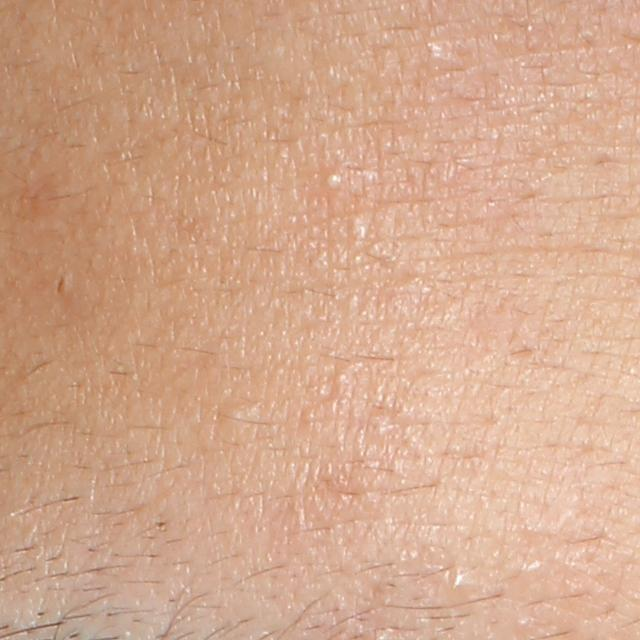comedo: (348, 212, 369, 243), (325, 169, 348, 194), (448, 572, 467, 596)
